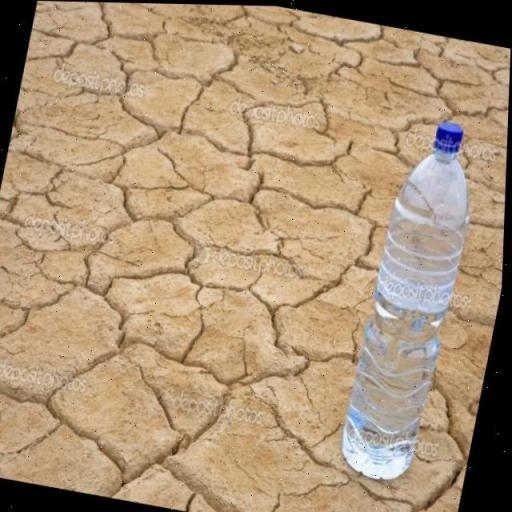plastic: (337, 108, 489, 490)
